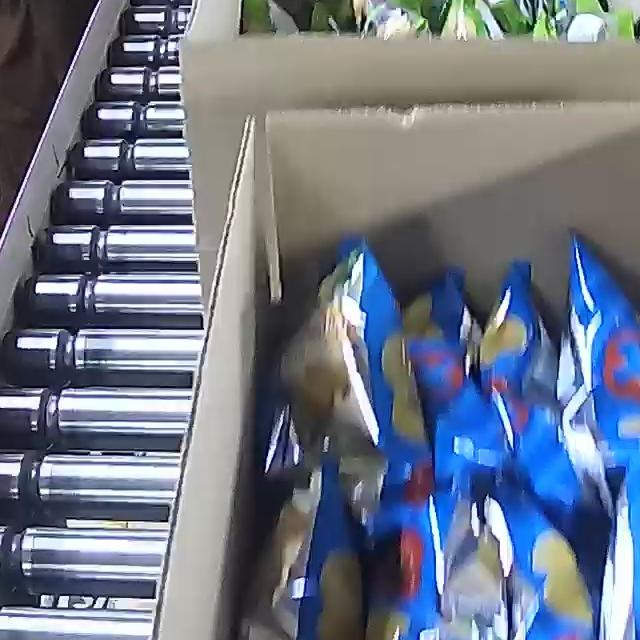paprika: (234, 230, 640, 640)
yogurt: (290, 0, 640, 40)
